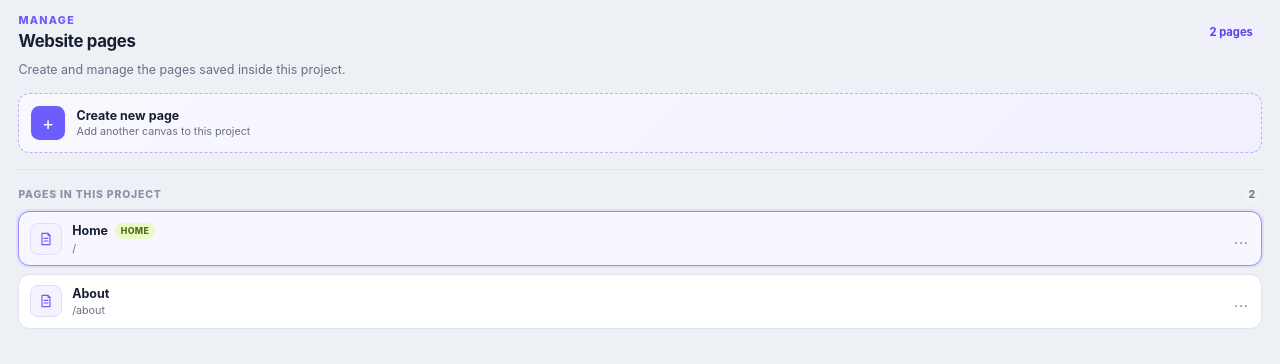
Test case: PagesPanel › should explain why home-page actions are unavailable
The width and height of the screenshot is (1280, 364).
Click the button named "Actions for Home": (1241, 239) top-left (1225, 223), bottom-right (1257, 255)
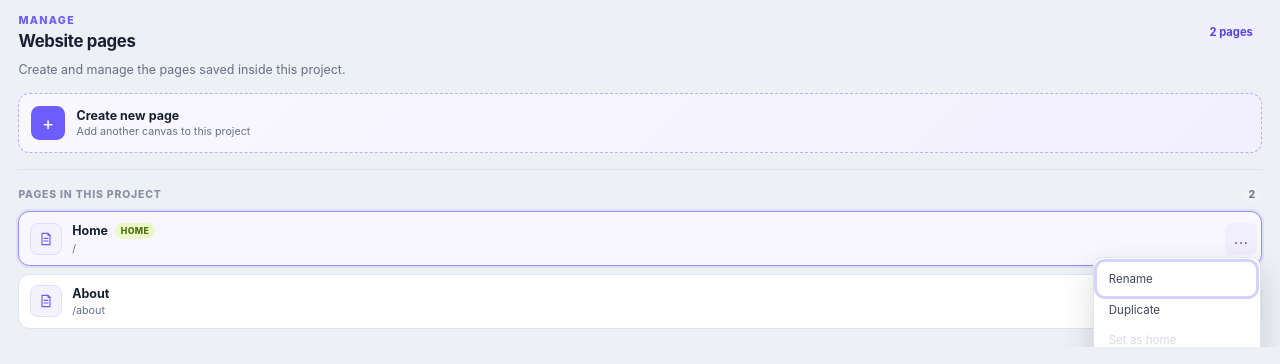
Now the menu item "Set as home" is disabled, box top-left (1099, 325), bottom-right (1254, 347)
